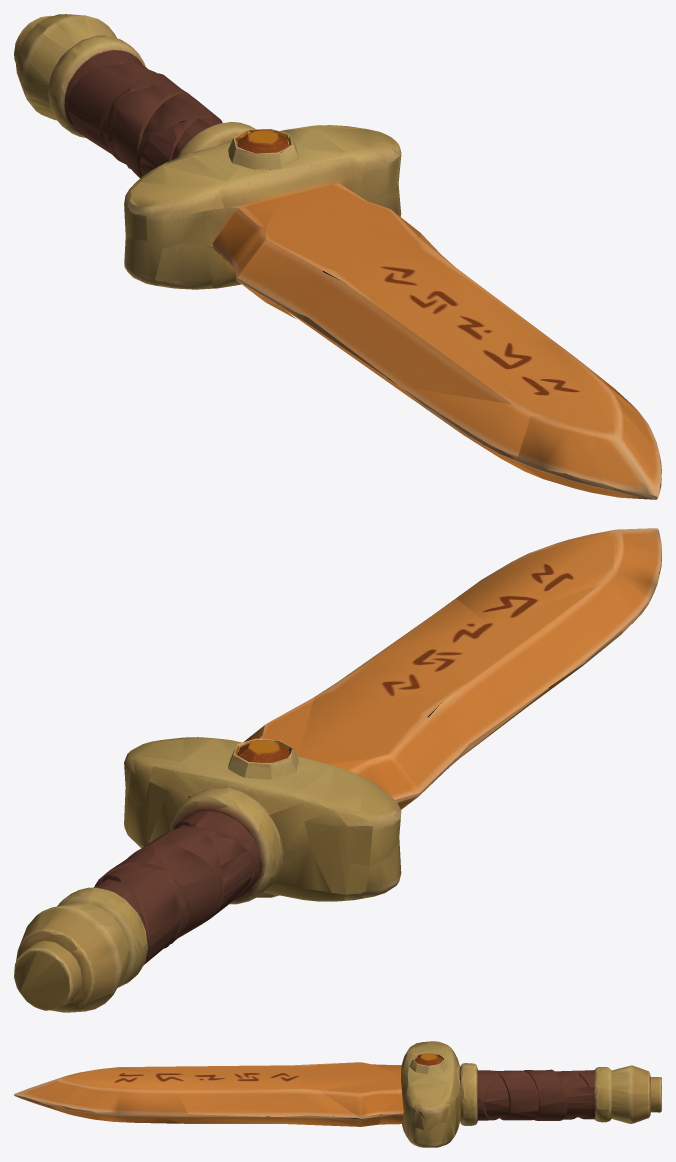
The picture shows the model from 3 angles, top to bottom: view 1: azimuth 30°, elevation 25°; view 2: azimuth 150°, elevation 25°; view 3: azimuth 270°, elevation 25°; orthographic projection. The views are drawn at different scales.
Visible parts, largest first — view 1: db_g4_L; view 2: db_g4_L; view 3: db_g4_L.
Part boxes in pixels (x1,y1,x2,y2): db_g4_L: (14, 14, 661, 499); db_g4_L: (14, 528, 661, 1012); db_g4_L: (14, 1041, 661, 1147).
Bounding box in the file's own units: 53.86 × 27.67 × 215.
Materials: 1 (1 with a texture image).
